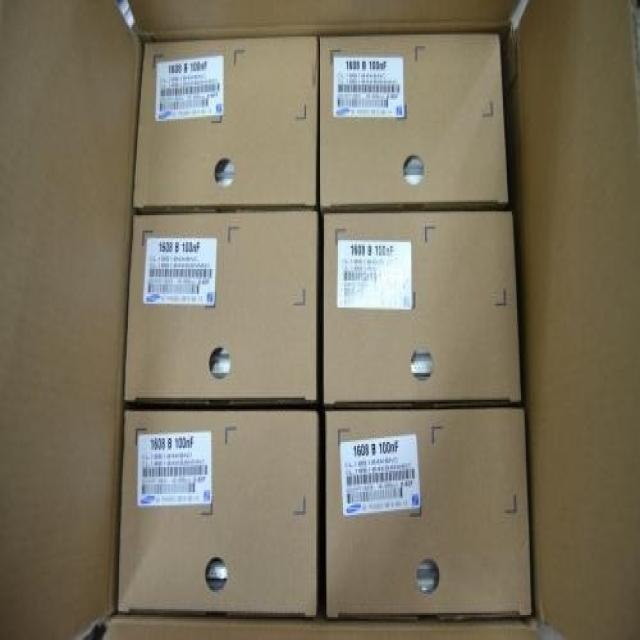box: (326, 409, 532, 616), (118, 410, 318, 616), (323, 212, 521, 402), (124, 212, 318, 400), (319, 34, 508, 207), (133, 37, 318, 206)
